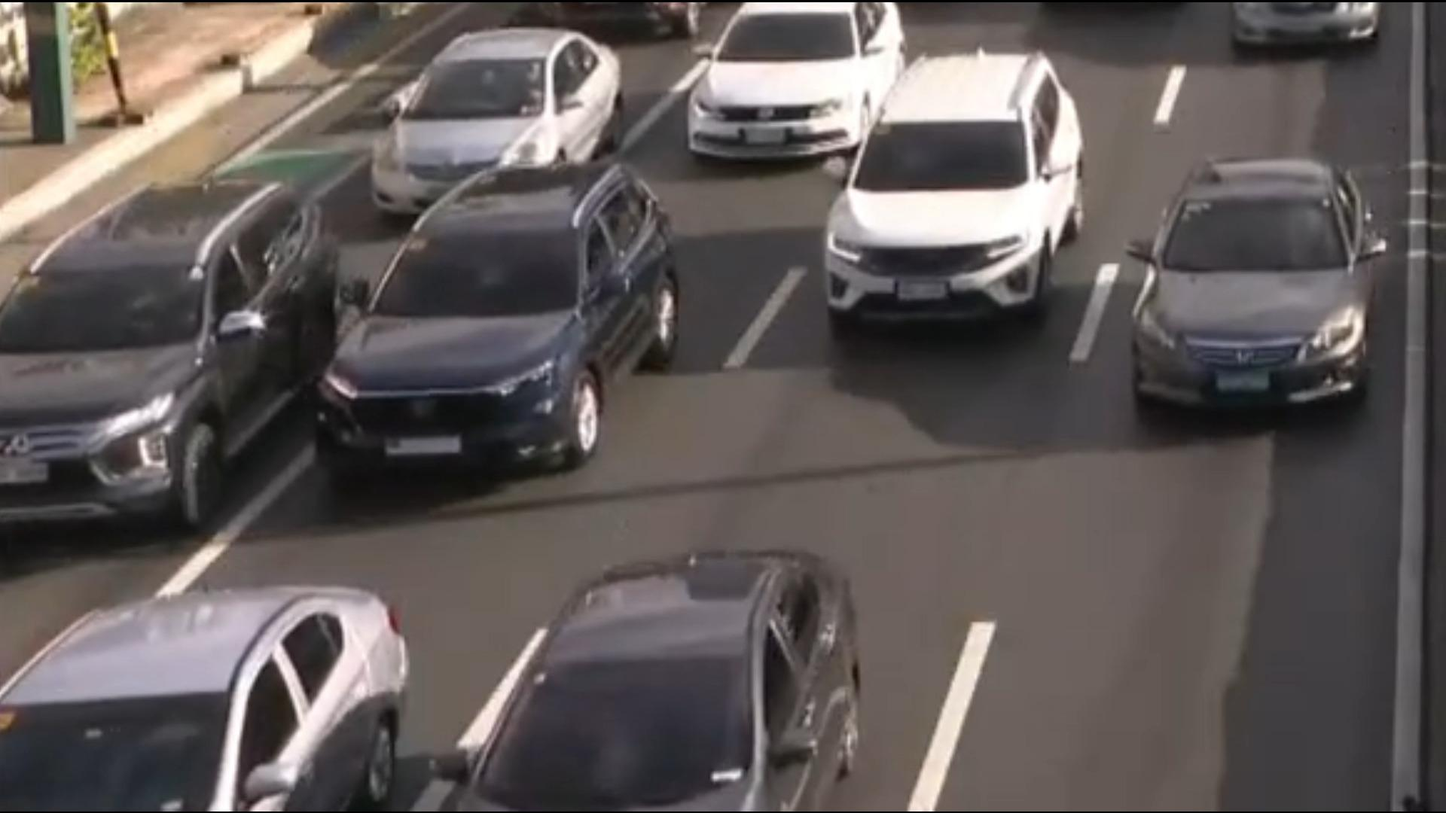SUV: (0, 170, 339, 548), (318, 171, 678, 475), (822, 49, 1090, 332)
Sedan: (439, 551, 870, 813), (0, 570, 424, 813), (1124, 152, 1379, 415), (364, 25, 632, 213), (686, 2, 897, 158)
